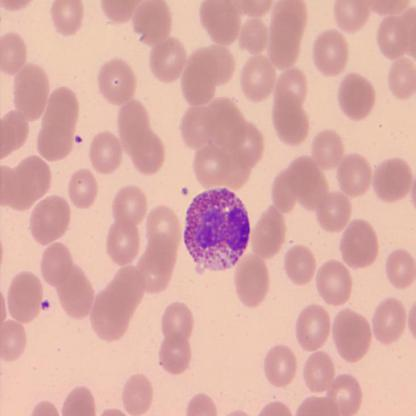Eosinophil: (183, 185, 249, 273)
